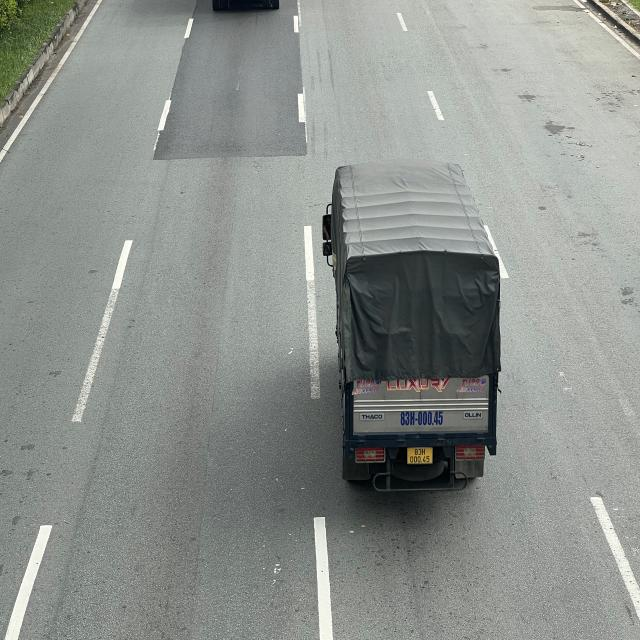truck: (316, 161, 500, 489)
